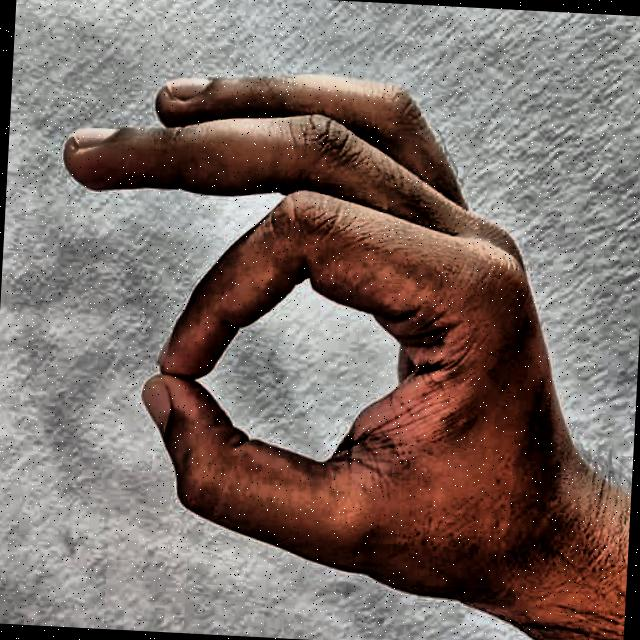Yo: (15, 9, 585, 640)
